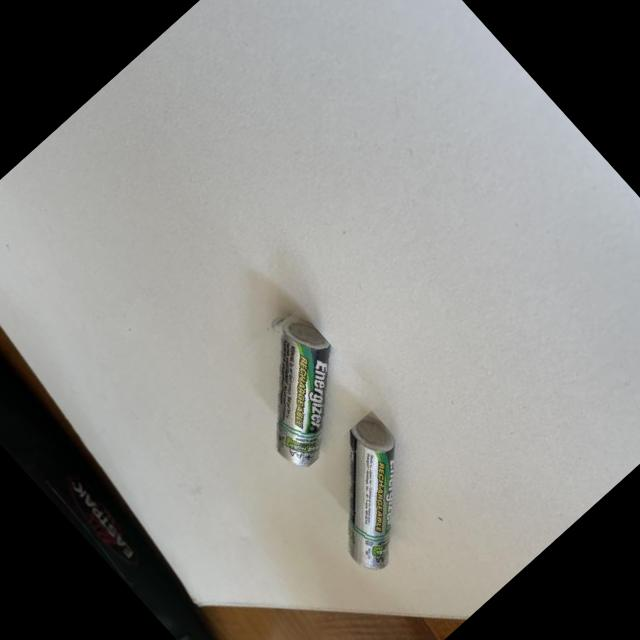Hazard: (206, 298, 382, 476), (284, 406, 453, 576)
